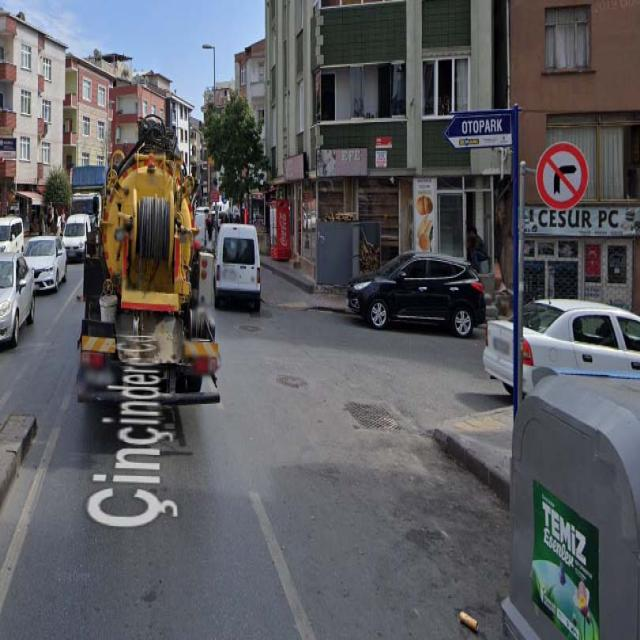sagadonulmez: (536, 142, 589, 210)
